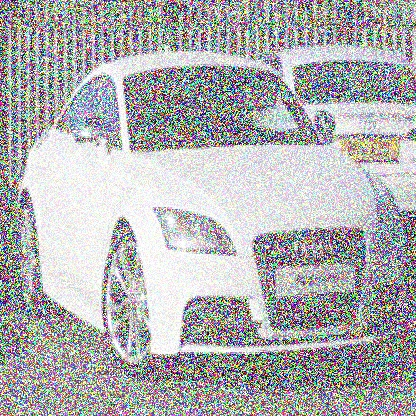Vehicle: (18, 51, 383, 384)
